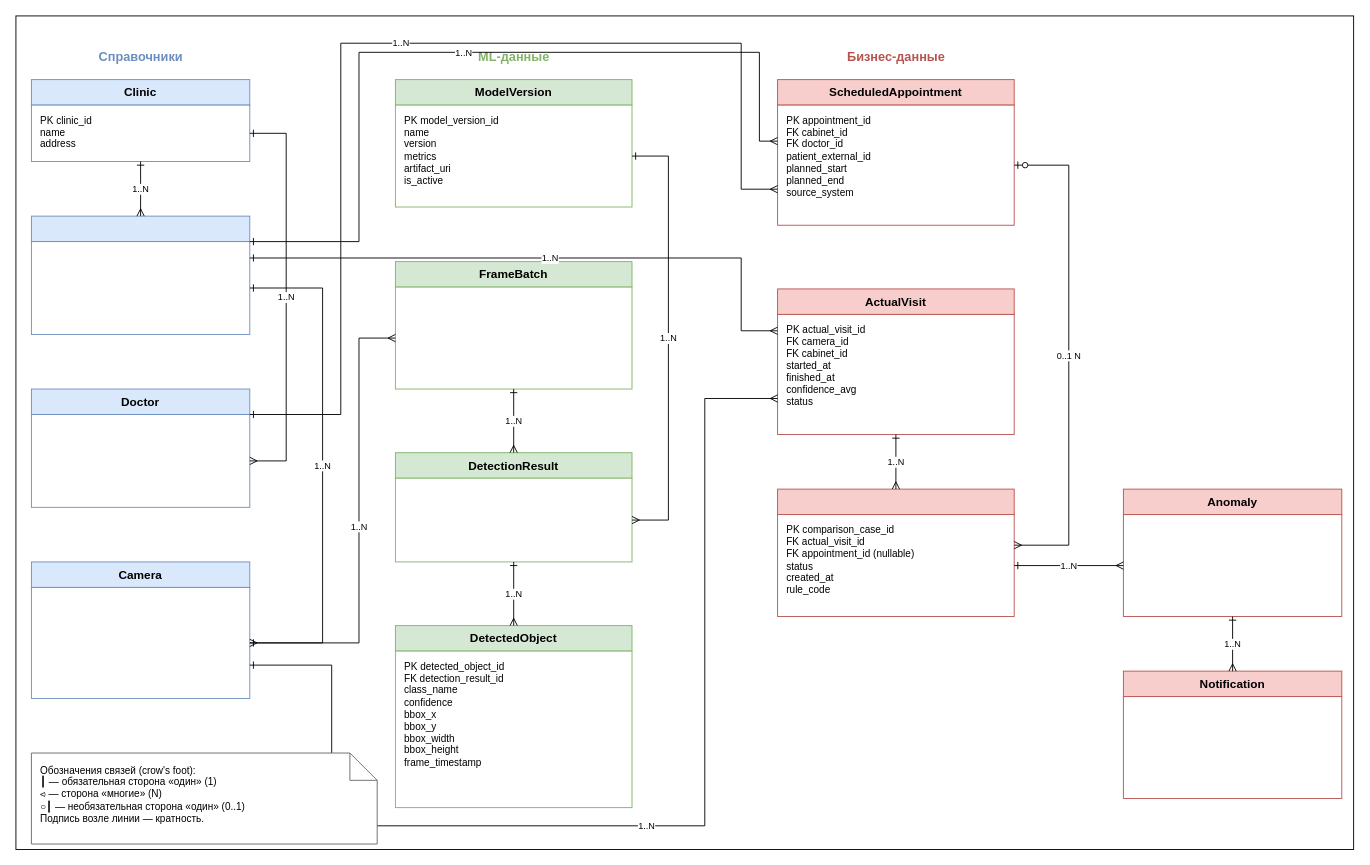
This 1370x865 diagram has some shape labels left out. Each missing label, with the centre of its shape:
Cabinet: point 140,228
ComparisonCase: point 895,501
PK anomaly_id FK comparison_case_id type severity description created_at: point 1232,565
PK cabinet_id FK clinic_id number type: point 140,287
PK camera_id FK cabinet_id rtsp_url status installed_at: point 140,642
PK detection_result_id FK frame_batch_id FK model_version_id processed_at status: point 513,519
PK doctor_id FK clinic_id full_name specialization: point 140,460
PK frame_batch_id FK camera_id started_at finished_at storage_uri status: point 513,337
PK notification_id FK anomaly_id recipient channel status sent_at: point 1232,747
